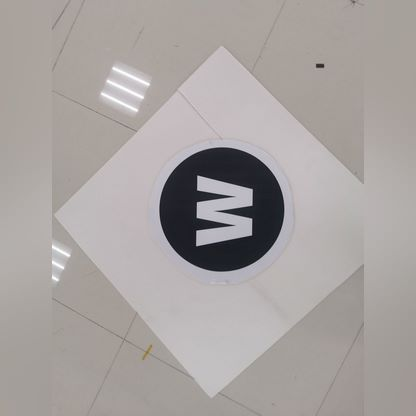W: (164, 160, 269, 251)
